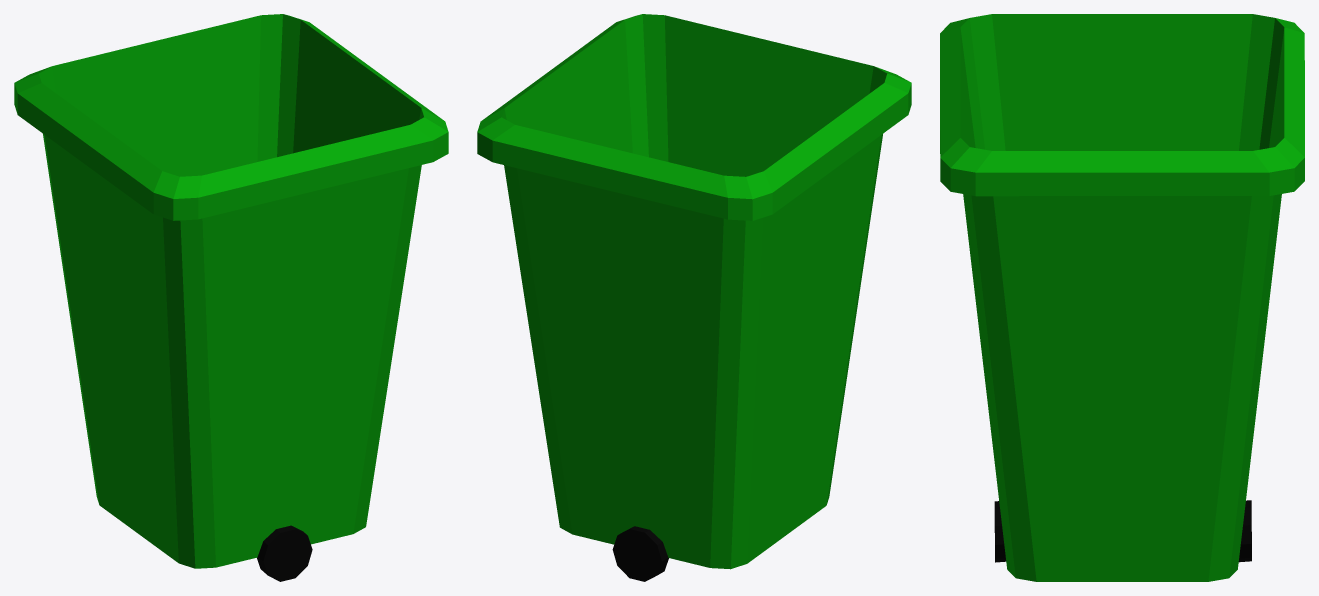
Rendered from KeranjangSampah.fbx.
3 views of the same model, side by side, from view 1: azimuth 30°, elevation 25°; view 2: azimuth 150°, elevation 25°; view 3: azimuth 270°, elevation 25° (orthographic). The views are drawn at different scales.
Visible parts, largest first — view 1: Keranjang Sampah; view 2: Keranjang Sampah; view 3: Keranjang Sampah.
Boxes of the visible parts, left/top/right/bottom form: Keranjang Sampah: left=14, top=14, right=448, bottom=581; Keranjang Sampah: left=477, top=14, right=911, bottom=581; Keranjang Sampah: left=940, top=14, right=1304, bottom=581.
Size of the model in its own units: 316 by 457 by 316.
